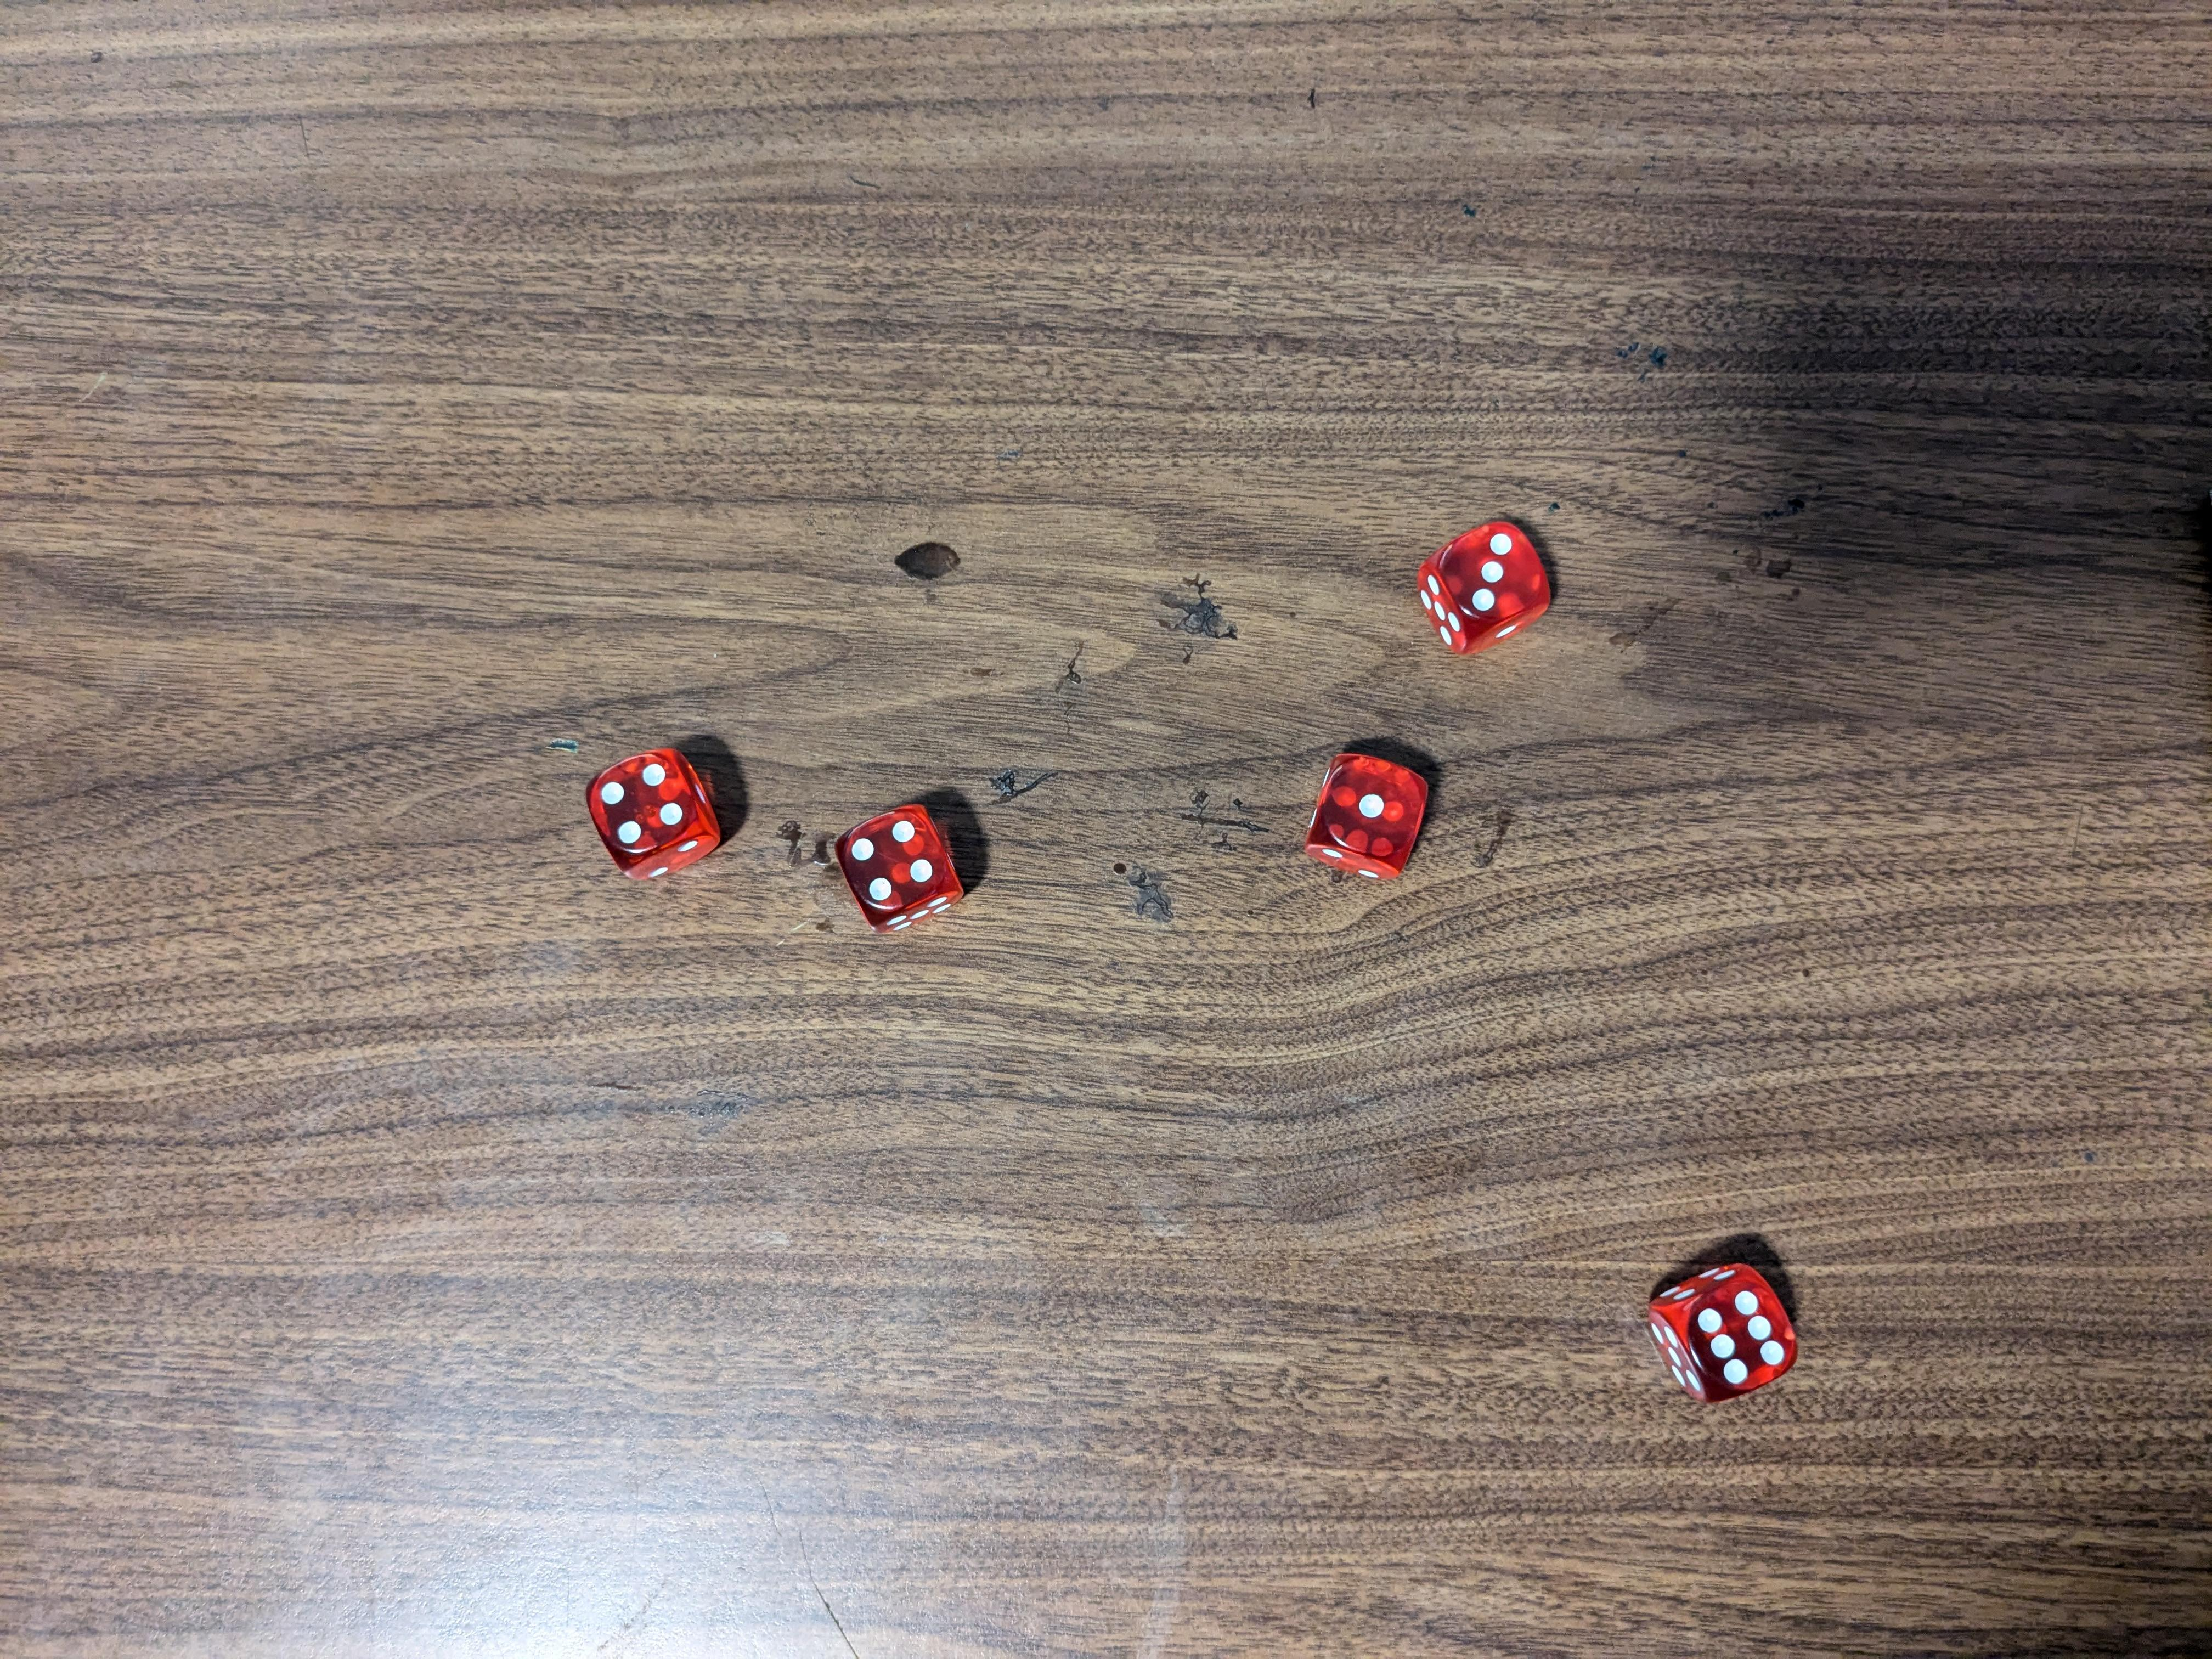four: (585, 749, 725, 887), (843, 798, 970, 943)
one: (1292, 746, 1439, 889)
six: (1644, 1253, 1803, 1401)
three: (1413, 516, 1562, 660)
